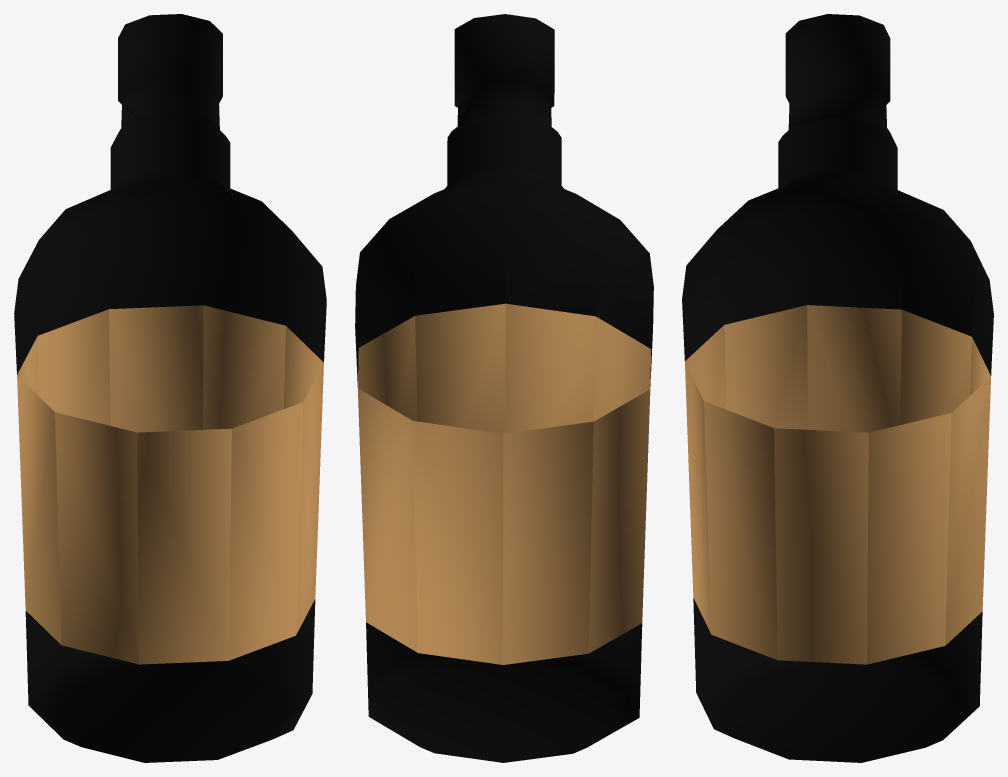
Rendered from Wine 23.fbx.
3 renders of one model, left to right at view 1: azimuth 30°, elevation 25°; view 2: azimuth 150°, elevation 25°; view 3: azimuth 270°, elevation 25°, orthographic.
Visible parts, largest first — view 1: Node 0; view 2: Node 0; view 3: Node 0.
Part boxes in pixels (box(x1,y1,x2,y2)): Node 0: box(14, 14, 326, 762); Node 0: box(355, 14, 653, 762); Node 0: box(682, 14, 993, 762).
Size of the model in its own units: 0.0919 by 0.2222 by 0.0907.
